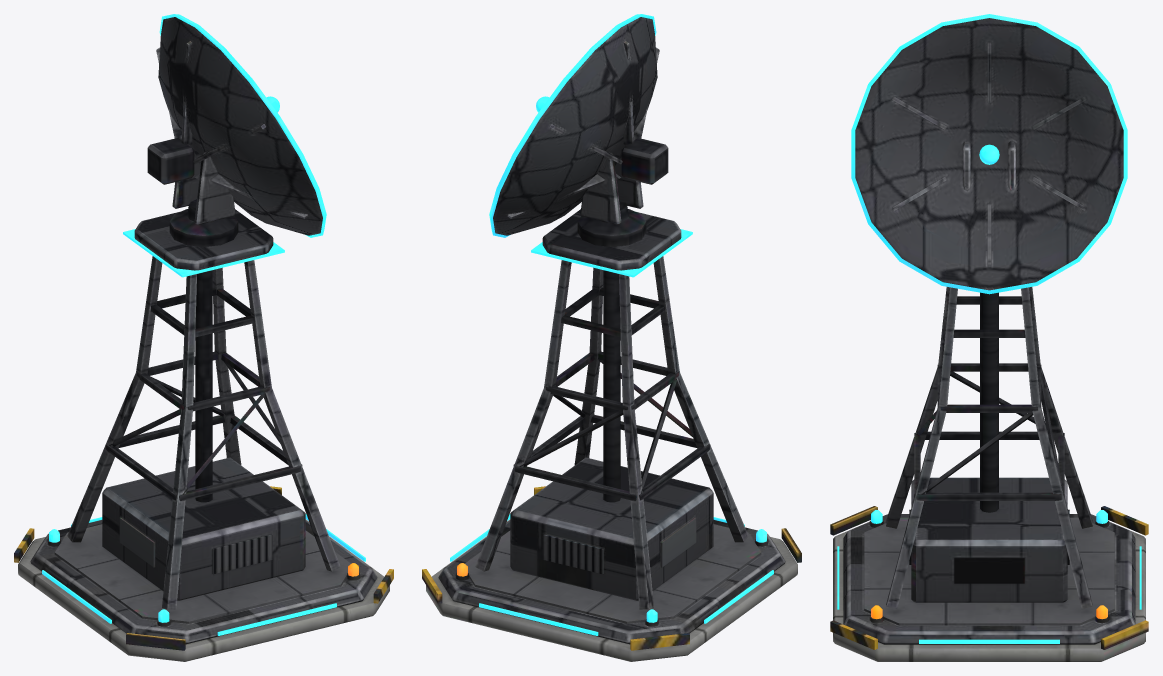
Rendered from terran_radar.glb.
3 views of the same model, side by side, from view 1: azimuth 30°, elevation 25°; view 2: azimuth 150°, elevation 25°; view 3: azimuth 270°, elevation 25° (orthographic). The views are drawn at different scales.
Parts seen in each view (by area): view 1: Base, Mast, Turret; view 2: Base, Mast, Turret; view 3: Turret, Base, Mast.
Boxes of the visible parts, x1,y1,x2,y2 form: Base: (14, 457, 393, 661); Mast: (67, 209, 340, 609); Turret: (147, 14, 326, 246); Base: (422, 457, 801, 661); Mast: (475, 209, 748, 609); Turret: (489, 14, 668, 246); Turret: (851, 14, 1127, 294); Base: (830, 477, 1148, 661); Mast: (886, 287, 1092, 608).
Size of the model in its own units: 4.07 by 8.15 by 4.07.
Materials: 1 (1 with a texture image).
